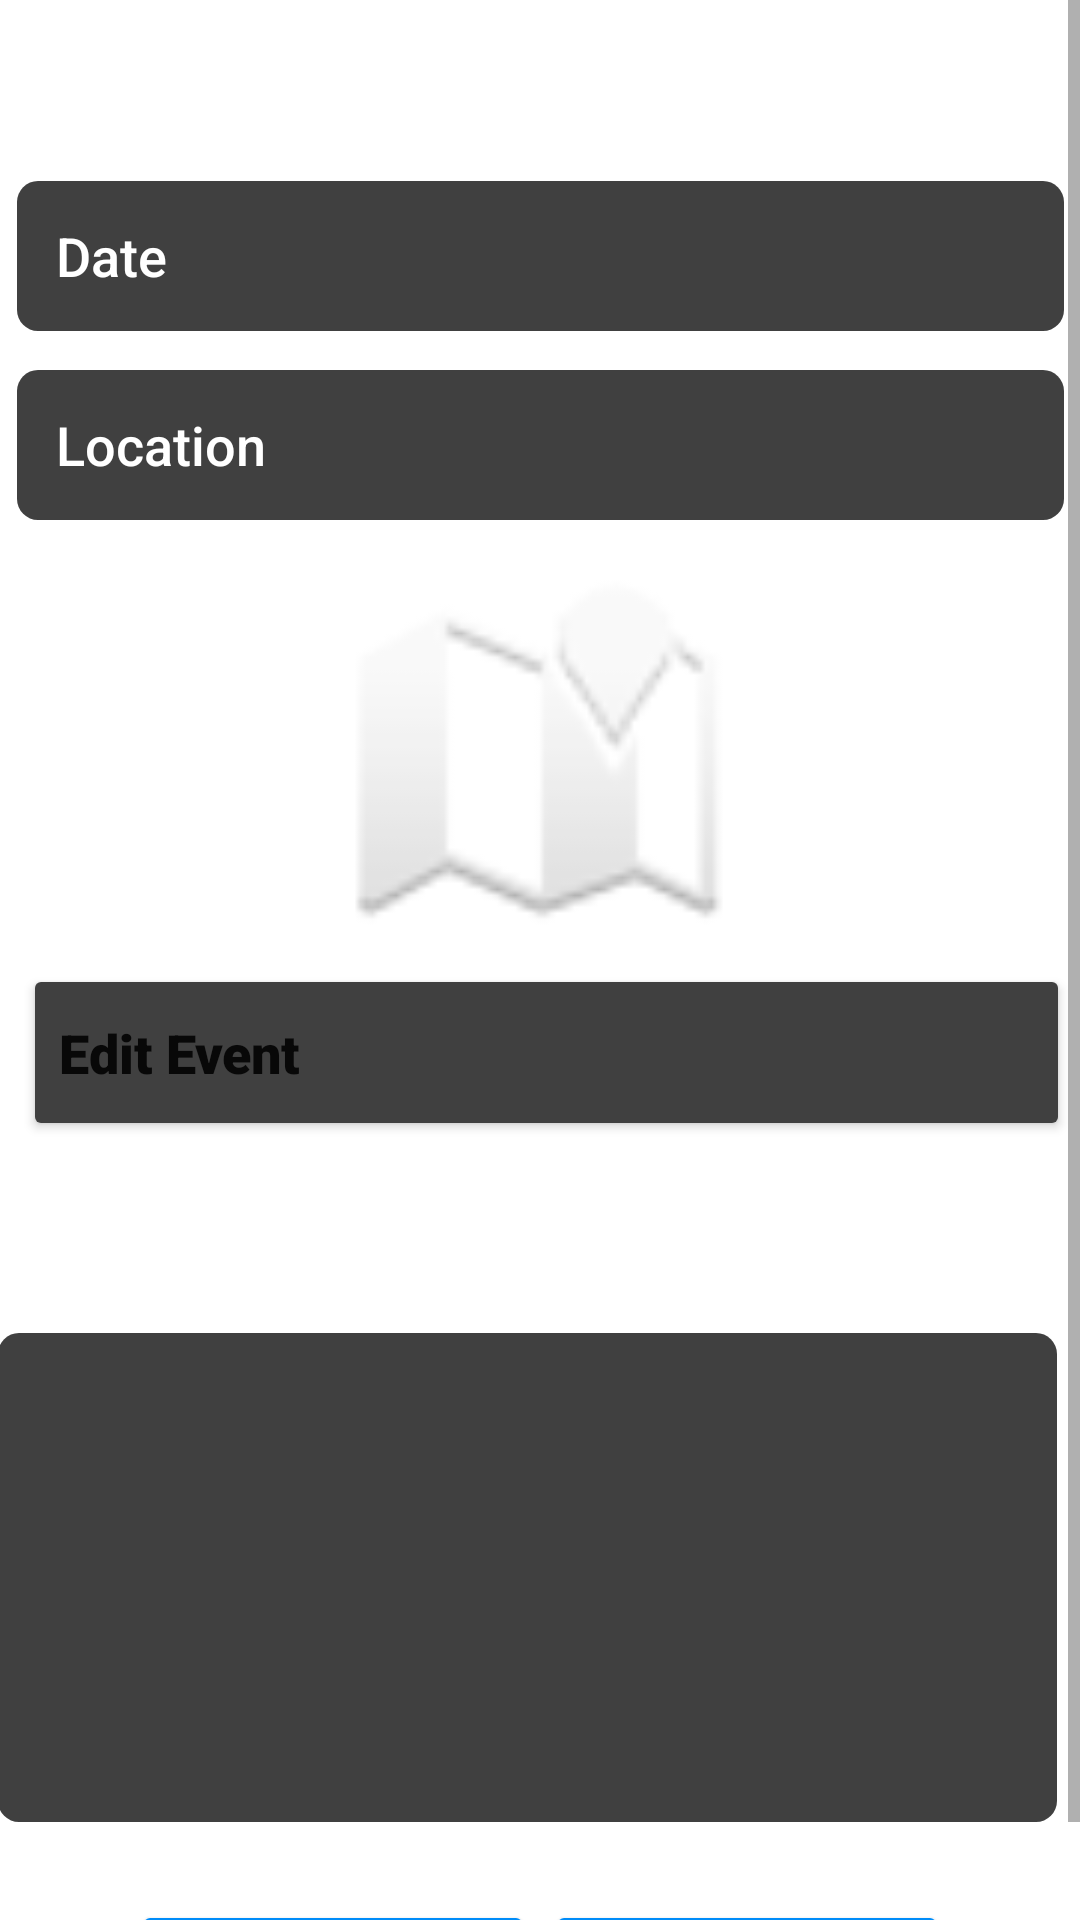

Icon click points for this 1080px×1920px phone screenshot, format point (x, y):
map: point (537, 770)
